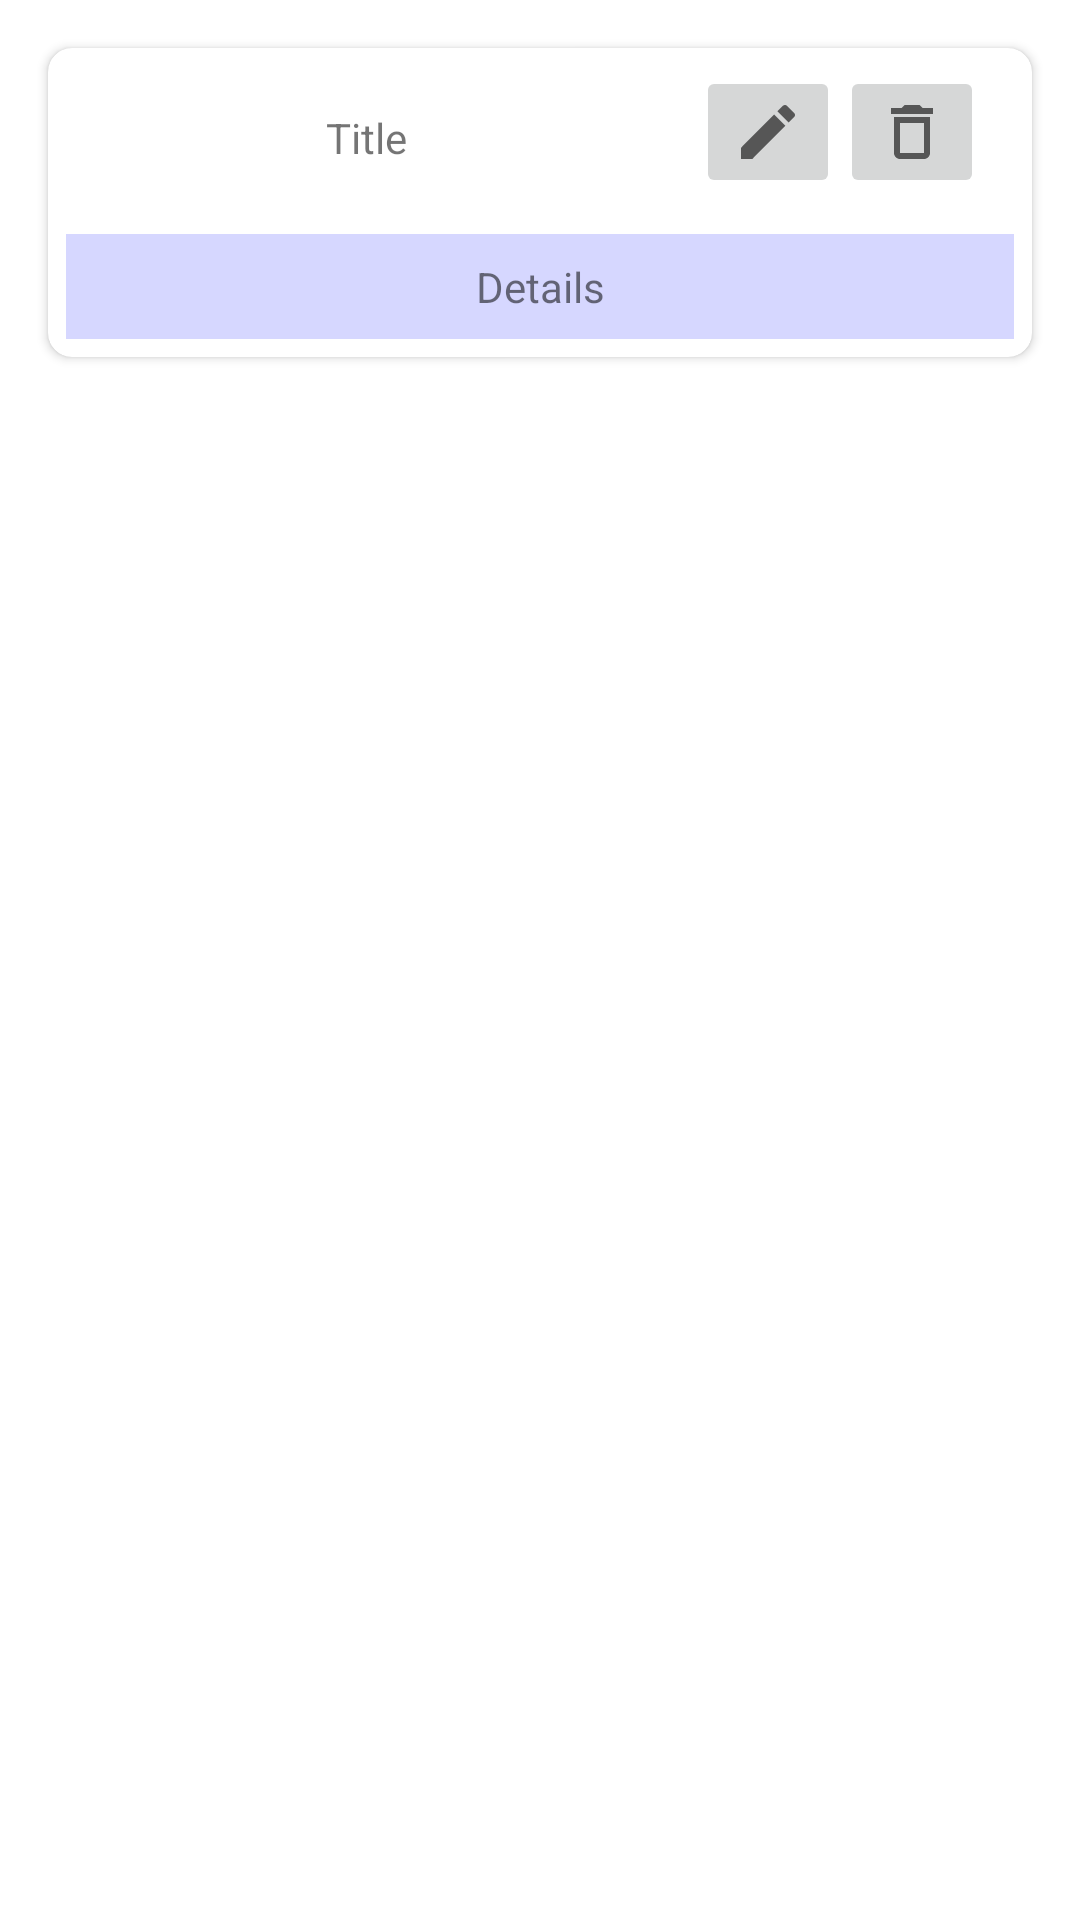

Screen size 1080 x 1920. Icon name, then its box in pixels as (x1=x1, y1=y1, x2=x2, y2=y2):
delete: (x1=852, y1=84, x2=972, y2=180)
edit: (x1=708, y1=84, x2=828, y2=180)
